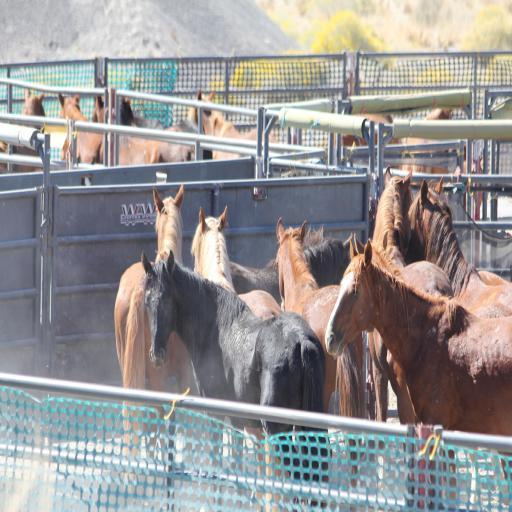horse: (113, 162, 512, 512), (58, 90, 280, 166), (328, 111, 400, 169), (0, 84, 46, 172), (398, 105, 452, 175)
